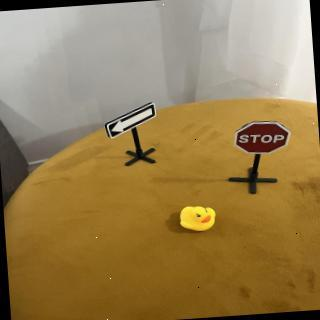duck_regular: (178, 203, 219, 234)
sign_oneway_left: (104, 100, 159, 141)
sign_stop: (233, 118, 294, 158)
